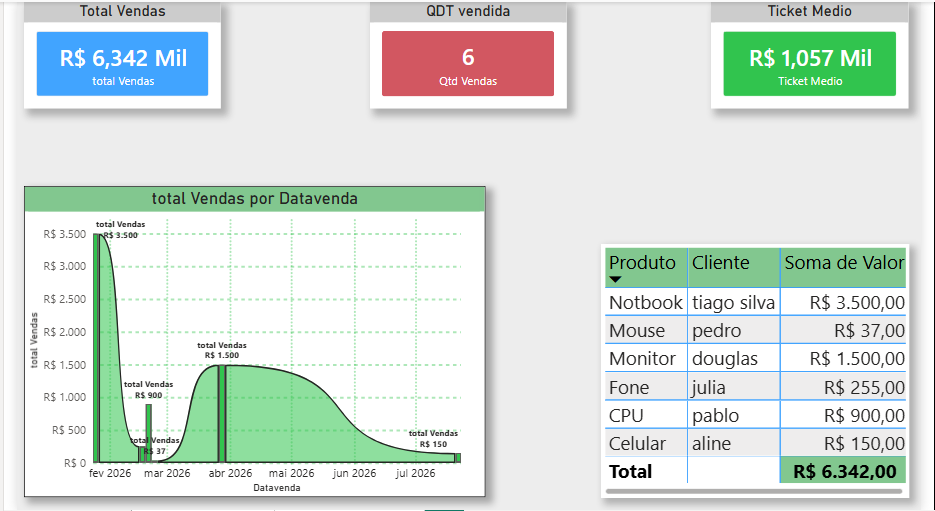

This screenshot's page, from the dashboard's own definition file:
{"tool":"powerbi","page":{"name":"dashboard/Vendas","canvas":[1280,720],"ordinal":0},"visuals":[{"type":"cardVisual","title":"Total Vendas","fields":{"Data":["vendas.total Vendas"]},"box":[10.1,0,279.4,151.2],"z":0},{"type":"cardVisual","title":"QDT vendida ","fields":{"Data":["vendas.Qtd Vendas"]},"box":[500,0,278.6,151.4],"z":1000},{"type":"cardVisual","title":"Ticket Medio","fields":{"Data":["vendas.Ticket Medio"]},"box":[984.3,0,280,151.4],"z":2000},{"type":"columnChart","fields":{"Y":["vendas.total Vendas"],"Category":["vendas.Datavenda"]},"box":[10,261.4,654.3,441.4],"z":3000},{"type":"tableEx","fields":{"Values":["vendas.Produto","vendas.Cliente","Sum(vendas.Valor)"]},"box":[827.1,342.9,437.1,360],"z":4000}]}

Visuals, with their boxes in screenshot pixels (x1, y1, x2, y2), scaled from the page's 1280x720 canvas onto the 935x511 screenshot:
"Total Vendas" cardVisual: [7, 0, 211, 107]
"QDT vendida " cardVisual: [365, 0, 569, 107]
"Ticket Medio" cardVisual: [719, 0, 924, 107]
columnChart - vendas.total Vendas x vendas.Datavenda: [7, 186, 485, 499]
tableEx - vendas.Produto x vendas.Cliente: [604, 243, 923, 499]
